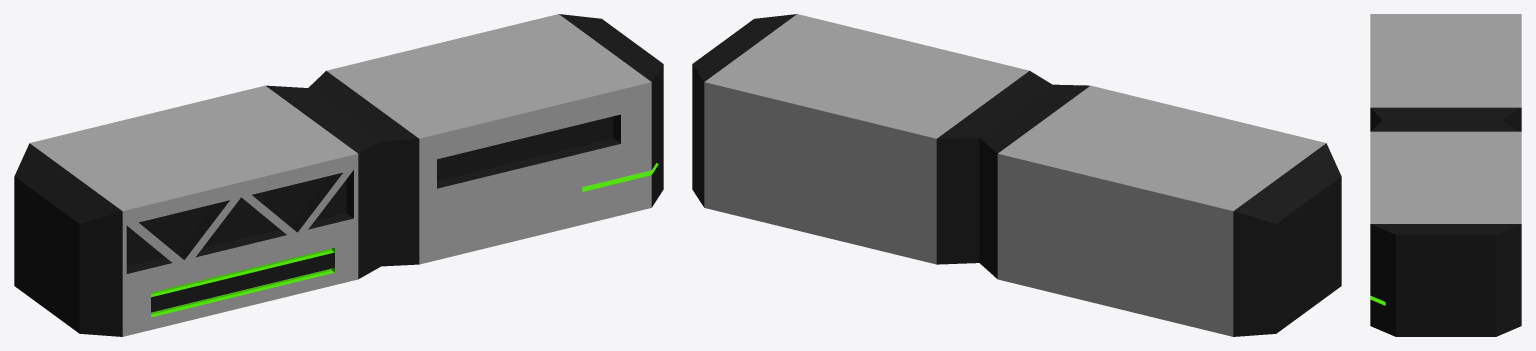
Rendered from CeilingVents.fbx.
3 renders of one model, left to right at view 1: azimuth 30°, elevation 25°; view 2: azimuth 150°, elevation 25°; view 3: azimuth 270°, elevation 25°, orthographic. The views are drawn at different scales.
Parts seen in each view (by area): view 1: CelilingVets; view 2: CelilingVets; view 3: CelilingVets.
Part boxes in pixels (box(x1,y1,x2,y2)): CelilingVets: box(14, 14, 663, 336); CelilingVets: box(692, 14, 1341, 336); CelilingVets: box(1370, 14, 1521, 336).
Size of the model in its own units: 2387 by 490 by 657.
